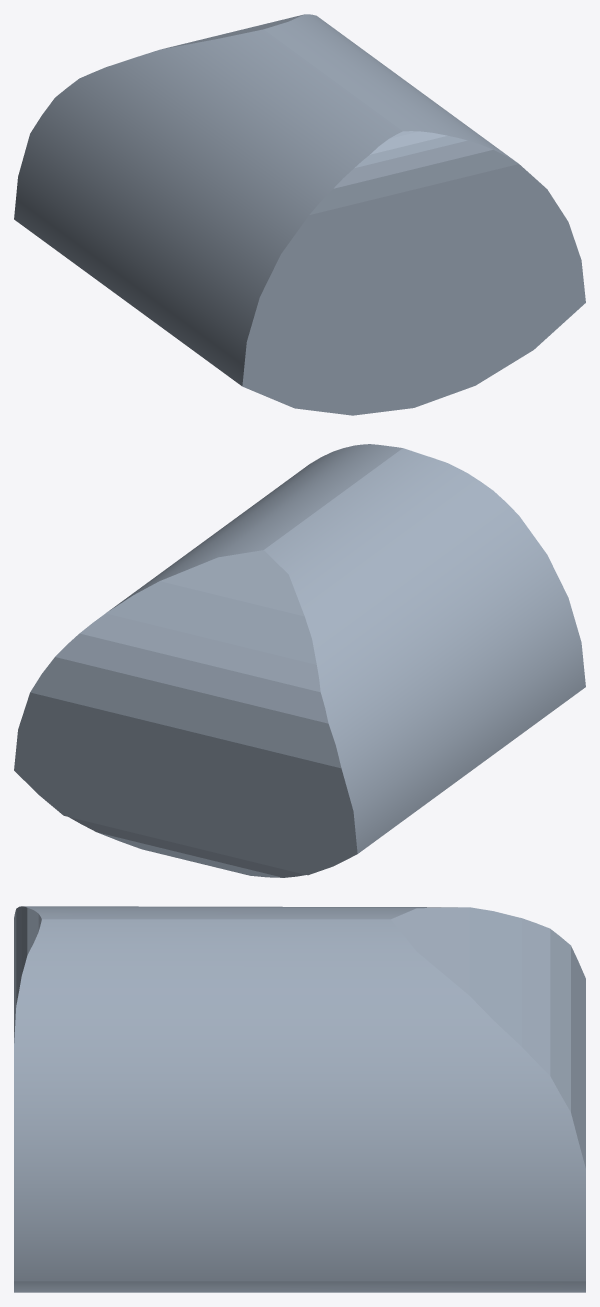
Rendered from prt0001.obj.
3 renders of one model, top to bottom at view 1: azimuth 30°, elevation 25°; view 2: azimuth 150°, elevation 25°; view 3: azimuth 270°, elevation 25°, orthographic. The views are drawn at different scales.
Visible parts, largest first — view 1: 1; view 2: 1; view 3: 1.
Boxes of the visible parts, <box> form: 1: <box>14,14,585,415</box>; 1: <box>14,444,585,877</box>; 1: <box>14,906,585,1292</box>.
Size of the model in its own units: 0.4344 by 0.3243 by 0.5.
